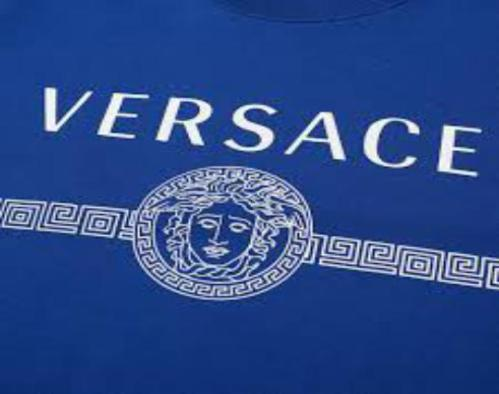VERSACE: (25, 68, 490, 300)
